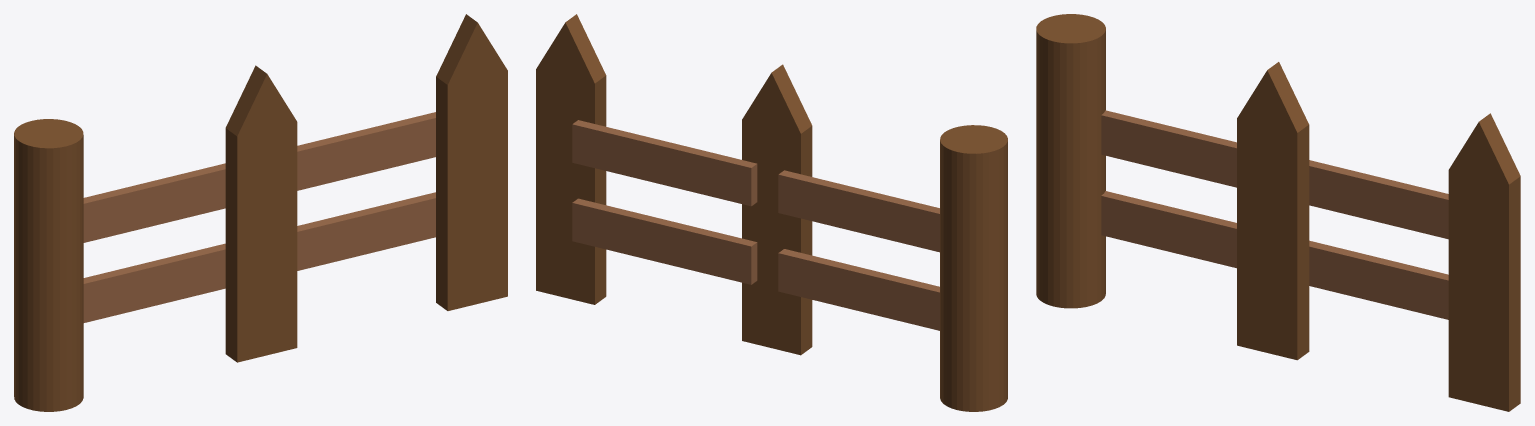
File: wallFL.glb
3 views of the same model, side by side, from view 1: azimuth 30°, elevation 25°; view 2: azimuth 150°, elevation 25°; view 3: azimuth 330°, elevation 25° (orthographic). The views are drawn at different scales.
Visible parts, largest first — view 1: Cylinder, Plane.029, Plane.012, Plane.031, Plane.030, Plane.014, Plane.013; view 2: Cylinder, Plane.012, Plane.029, Plane.013, Plane.014, Plane.030, Plane.031; view 3: Cylinder, Plane.029, Plane.012, Plane.013, Plane.014, Plane.030, Plane.031.
Boxes of the visible parts, x1,y1,x2,y2 form: Cylinder: (14,119,83,411); Plane.029: (225,65,297,362); Plane.012: (436,14,507,310); Plane.031: (83,163,225,242); Plane.030: (83,243,225,322); Plane.014: (297,112,435,190); Plane.013: (297,192,435,270); Cylinder: (940,125,1007,411); Plane.012: (536,14,606,304); Plane.029: (742,64,812,355); Plane.013: (572,198,757,284); Plane.014: (572,120,757,206); Plane.030: (778,249,939,330); Plane.031: (778,170,939,252); Cylinder: (1036,14,1105,308); Plane.029: (1237,62,1309,360); Plane.012: (1448,113,1520,411); Plane.013: (1309,240,1448,319); Plane.014: (1309,160,1448,239); Plane.030: (1101,191,1236,268); Plane.031: (1101,110,1236,187).
Size of the model in its own units: 2.27 by 1.28 by 0.286.
